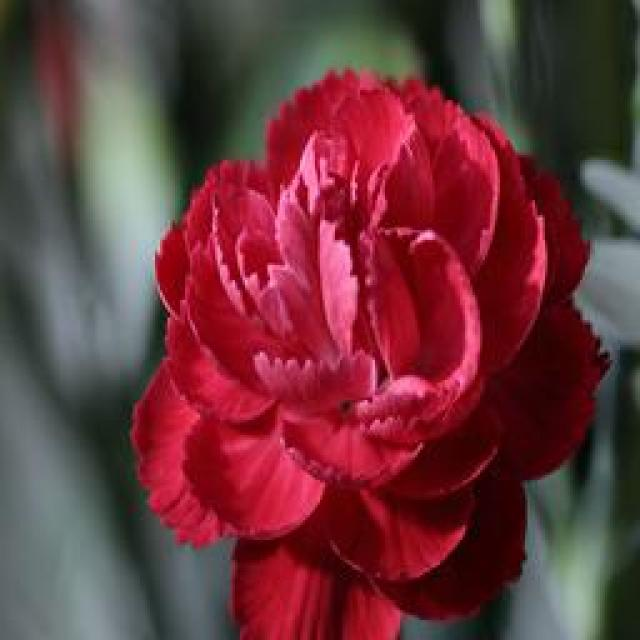carnation: (132, 54, 608, 640)
